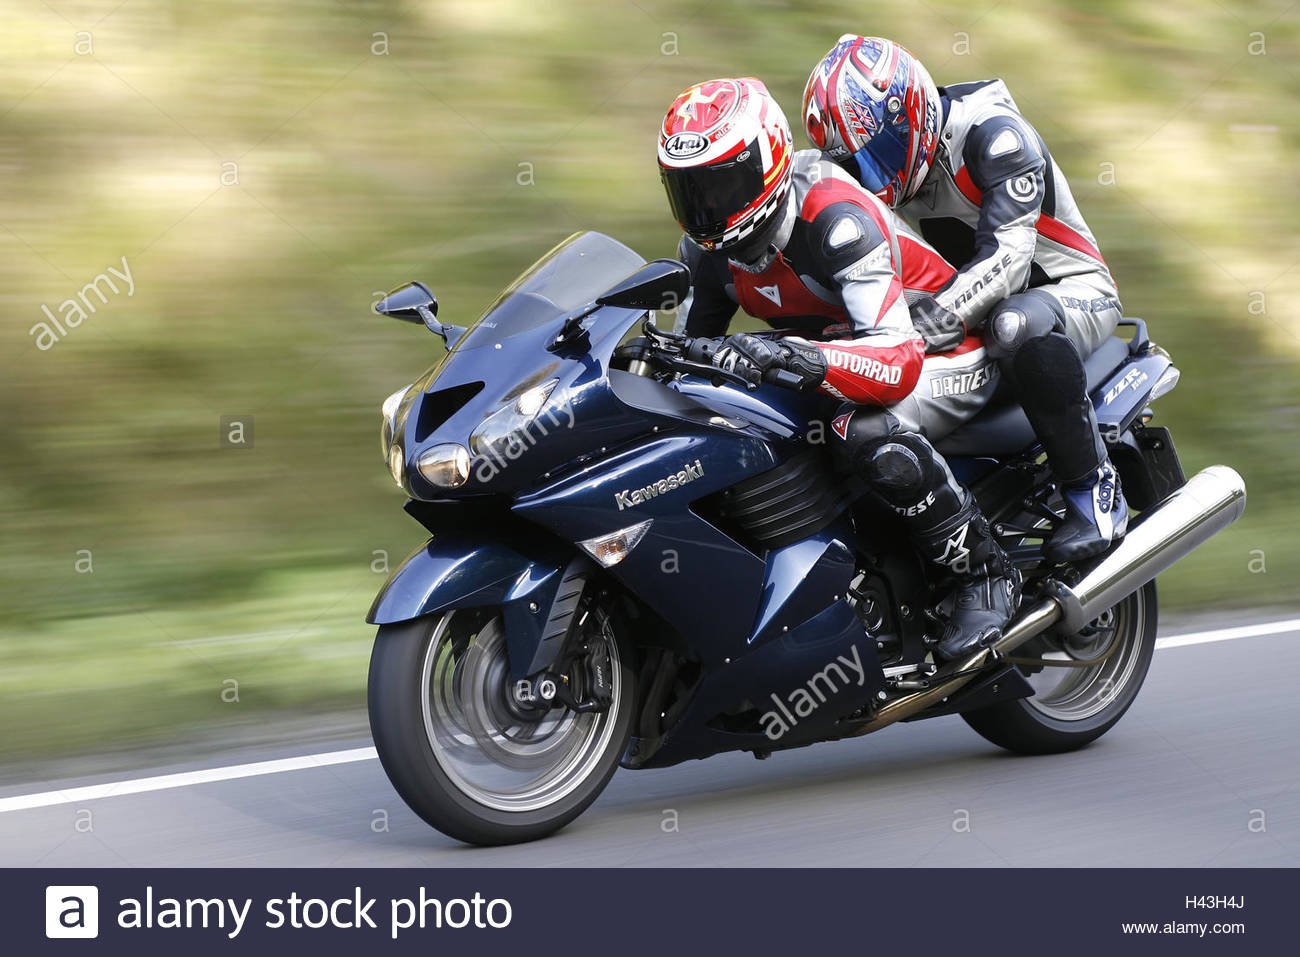helmet: (791, 23, 971, 205), (638, 70, 801, 264)
